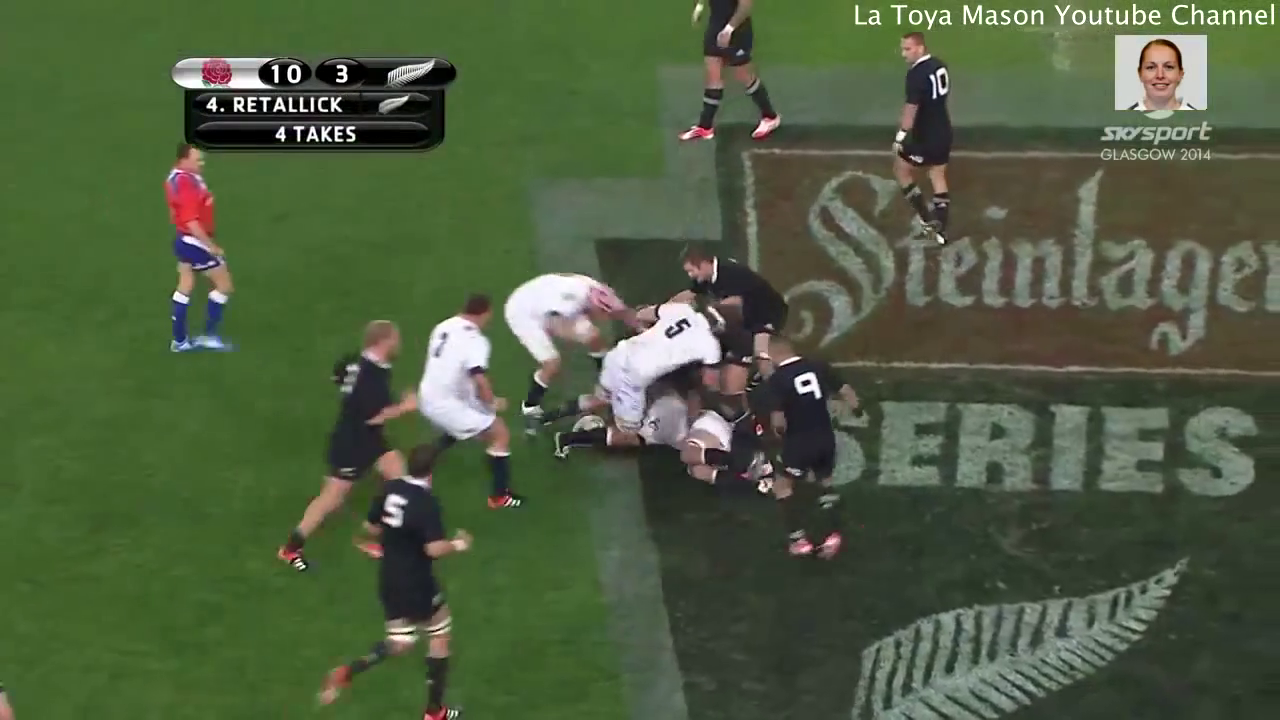ball: (560, 402, 612, 454)
player: (311, 436, 492, 720), (516, 282, 738, 471), (271, 308, 425, 580), (387, 280, 538, 523), (605, 361, 788, 514), (757, 335, 863, 569), (153, 130, 253, 366), (509, 243, 633, 430), (666, 1, 792, 154), (678, 239, 795, 398), (885, 29, 961, 255)
